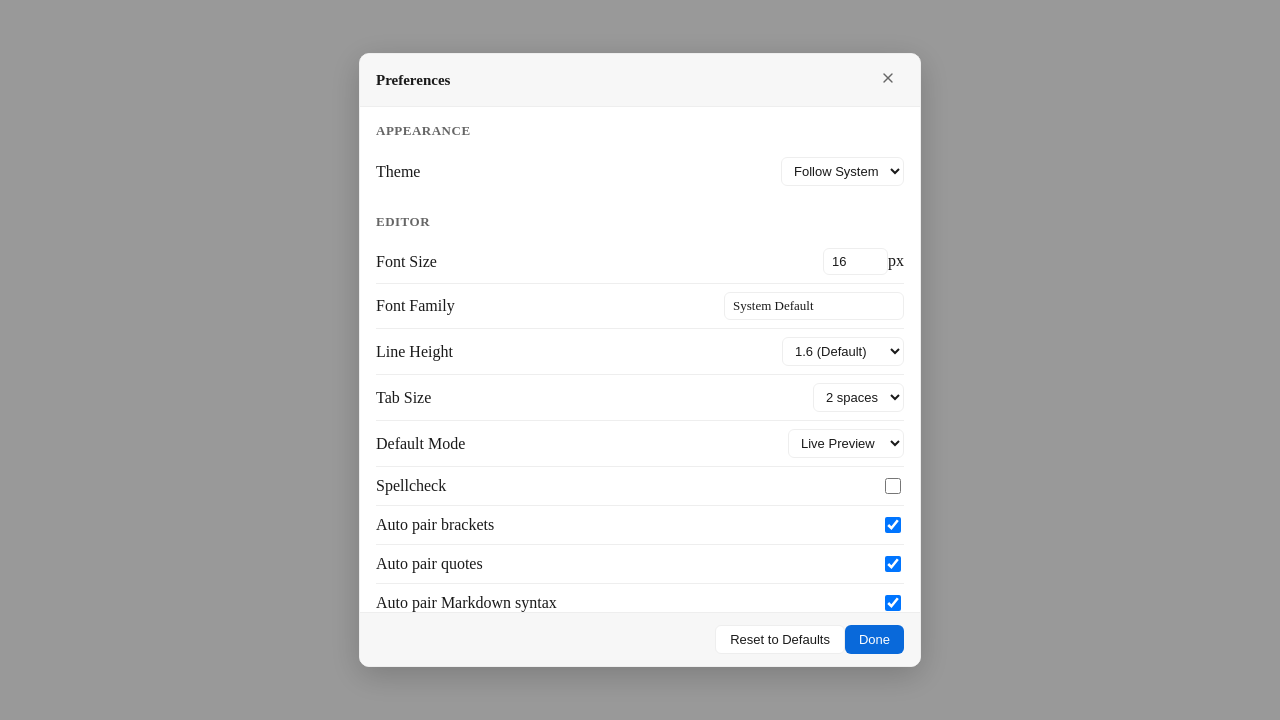
Test: SettingsModal › offers presets only when no font service is provided
The image size is (1280, 720).
What coordinates should you click on to do the following:
click the button named "Font Family"
I would click on:
 (814, 306)
Its box is left=724, top=292, right=904, bottom=320.
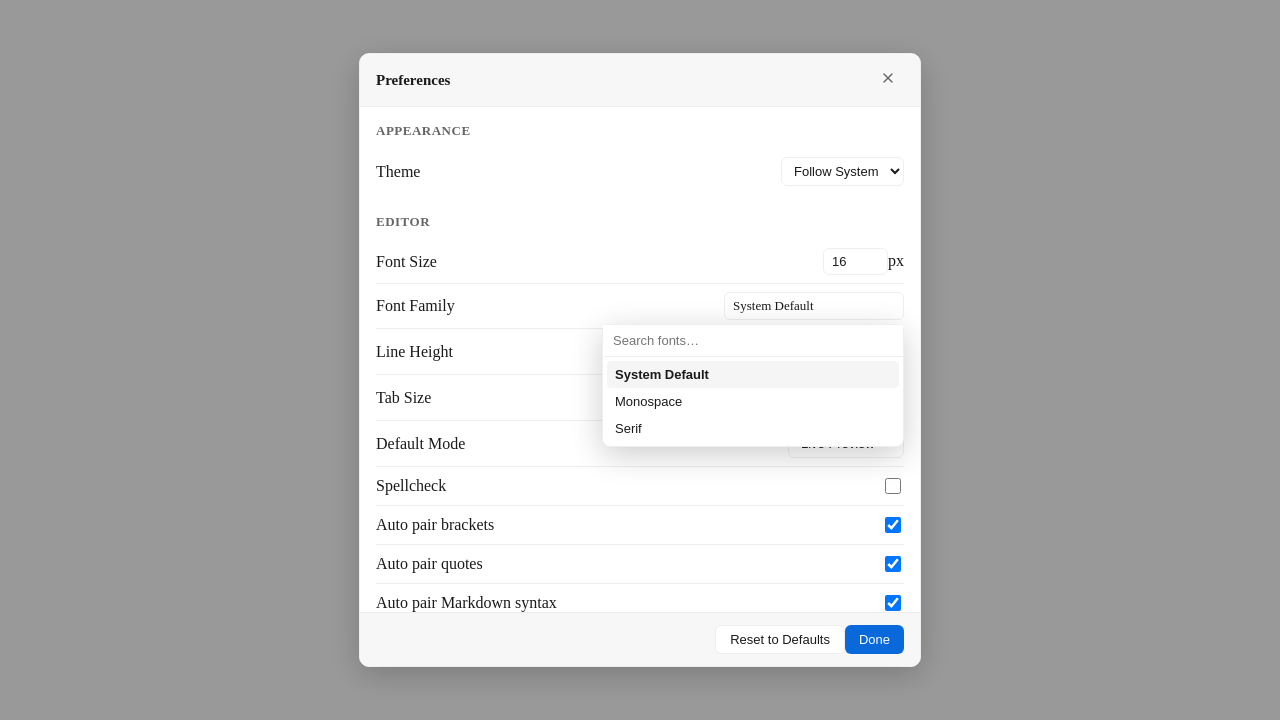
Result: the option "Serif" is shown at left=607, top=415, right=899, bottom=442
